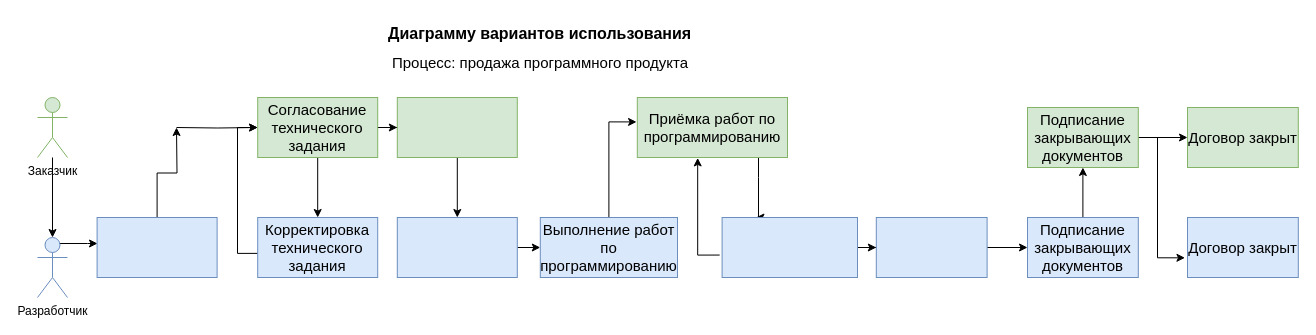
Image size: 1316x335. Some labels were removed from this diagram. The shapes that lost their labels are listed below. From the top down, each one's centre as x and y in pixels, then its label:
At pixel 456 127: "Приёмка технического задания".
At pixel 156 247: "Создание технического задания".
At pixel 456 247: "Аванс за работы".
At pixel 789 247: "Корректировка работ по программированию".
At pixel 931 247: "Получение окончательного расчёта".
